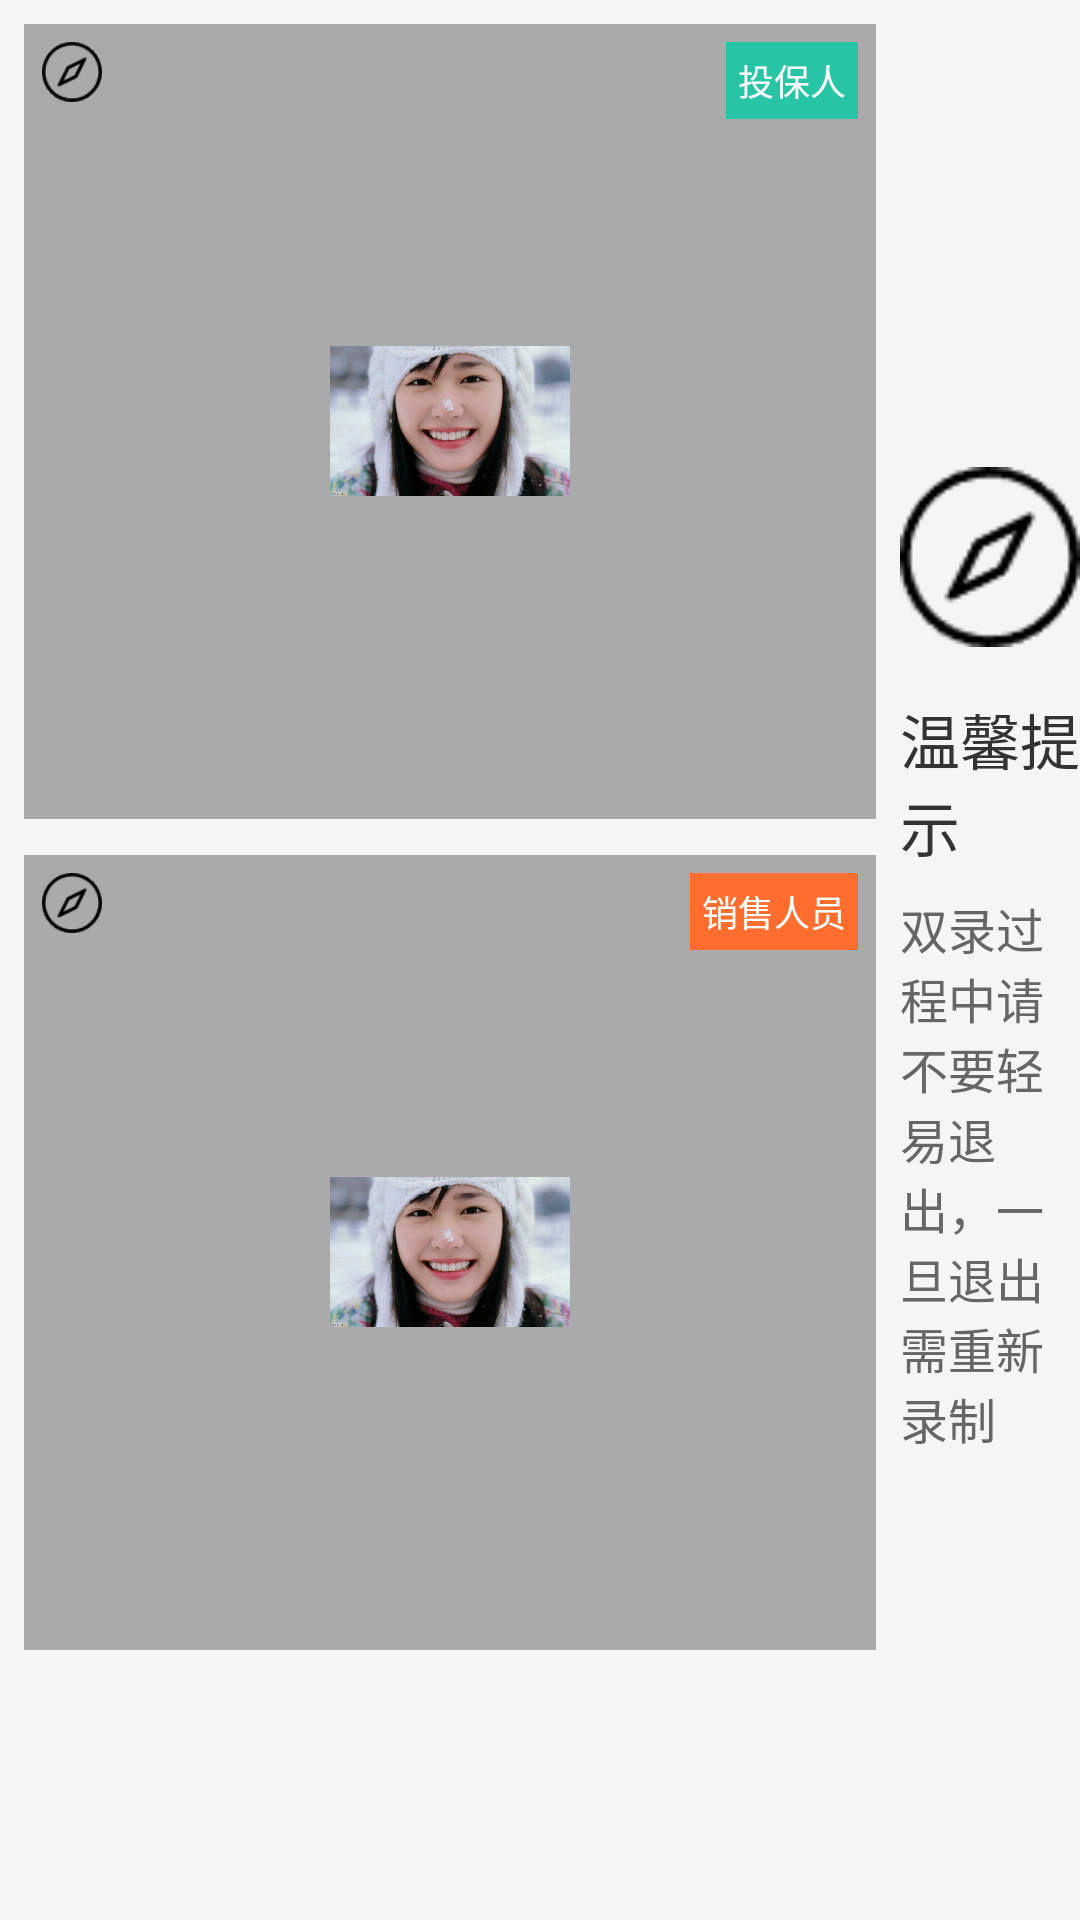

Screen size 1080px×1920px. Icon name, then its center in pixels as point (x, y):
discovery: point (72, 72), point (990, 557), point (72, 903)
